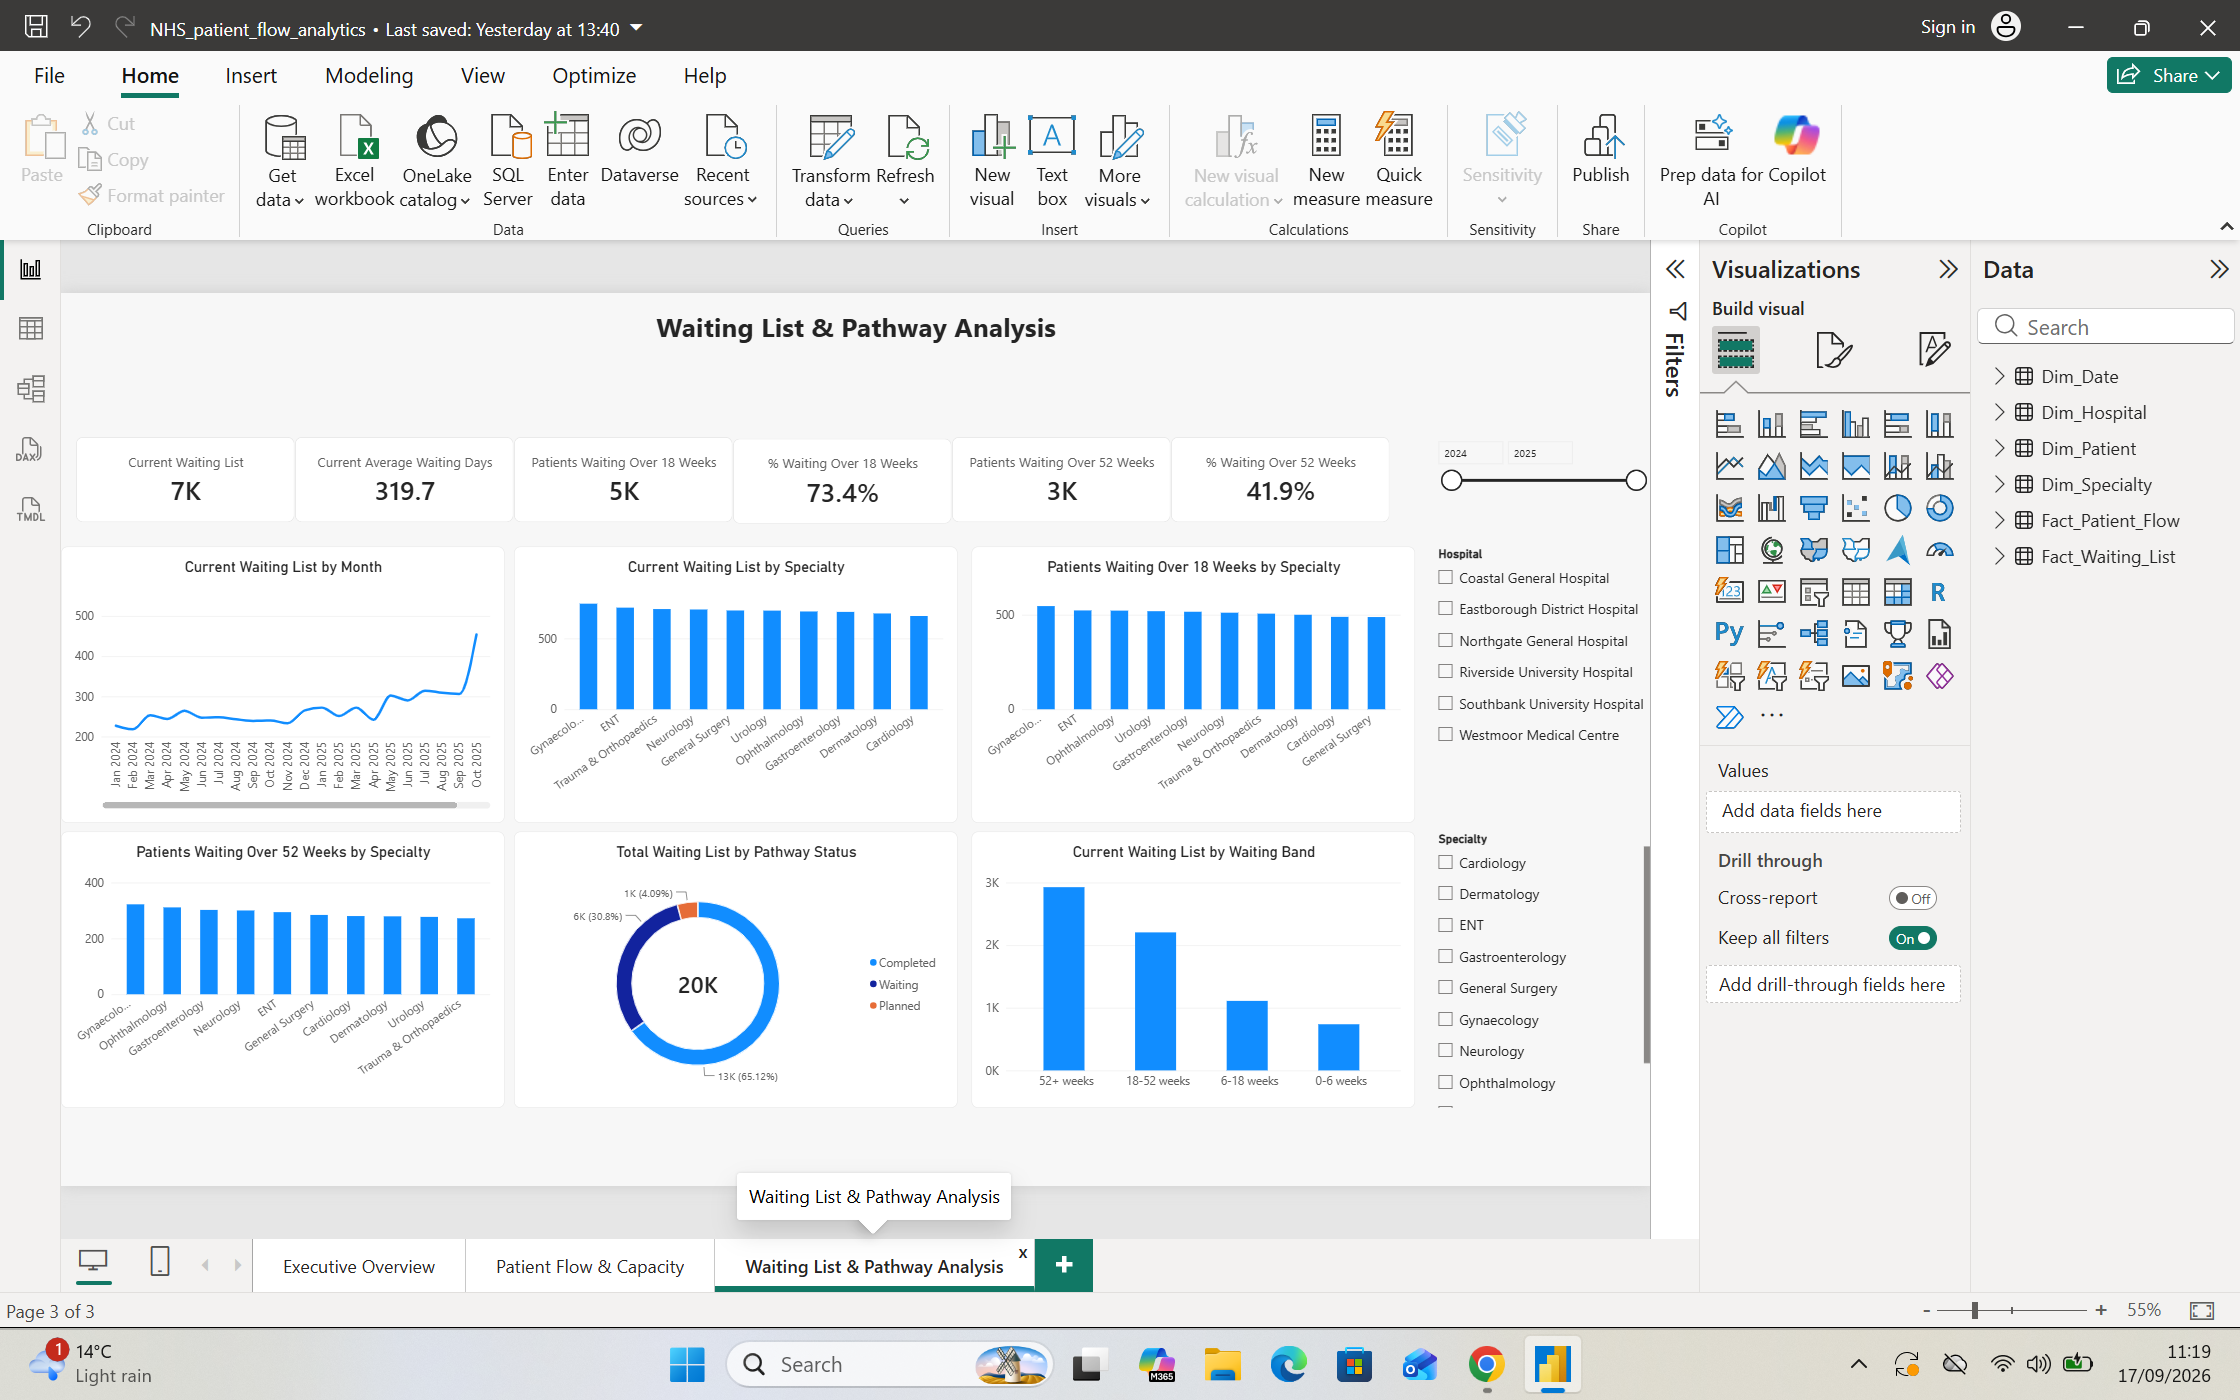

This screenshot's page, from the dashboard's own definition file:
{"tool":"powerbi","page":{"name":"Waiting List & Pathway Analysis","canvas":[1920,1080],"ordinal":2},"visuals":[{"type":"textbox","box":[10.9,0,1908.5,83.4],"z":0},{"type":"cardVisual","fields":{"Data":["Fact_Waiting_List.Current Waiting List"]},"box":[18.1,174,264.6,103.3],"z":1},{"type":"cardVisual","fields":{"Data":["Fact_Waiting_List.Current Average Waiting Days"]},"box":[282.7,174,264.6,103.3],"z":2},{"type":"cardVisual","fields":{"Data":["Fact_Waiting_List.Patients Waiting Over 18 Weeks"]},"box":[547.4,174,264.6,103.3],"z":3},{"type":"cardVisual","fields":{"Data":["Fact_Waiting_List.% Waiting Over 18 Weeks"]},"box":[812,175.8,264.6,103.3],"z":4},{"type":"cardVisual","fields":{"Data":["Fact_Waiting_List.Patients Waiting Over 52 Weeks"]},"box":[1076.6,174,264.6,103.3],"z":5},{"type":"cardVisual","fields":{"Data":["Fact_Waiting_List.% Waiting Over 52 Weeks"]},"box":[1341.2,174,264.6,103.3],"z":6},{"type":"lineChart","title":"Current Waiting List by Month","fields":{"Category":["Dim_Date.Month_Year"],"Y":["Fact_Waiting_List.Current Waiting List"]},"box":[0,306,536,334],"z":7},{"type":"clusteredColumnChart","title":"Current Waiting List by Specialty","fields":{"Category":["Dim_Specialty.Specialty_Name"],"Y":["Fact_Waiting_List.Current Waiting List"]},"box":[548,306,536,334],"z":8},{"type":"clusteredColumnChart","title":"Patients Waiting Over 18 Weeks by Specialty","fields":{"Category":["Dim_Specialty.Specialty_Name"],"Y":["Fact_Waiting_List.Patients Waiting Over 18 Weeks"]},"box":[1100,306,536,334],"z":9},{"type":"clusteredColumnChart","title":"Patients Waiting Over 52 Weeks by Specialty","fields":{"Category":["Dim_Specialty.Specialty_Name"],"Y":["Fact_Waiting_List.Patients Waiting Over 52 Weeks"]},"box":[0,650,536,334],"z":10},{"type":"donutChart","title":"Total Waiting List by Pathway Status","fields":{"Category":["Fact_Waiting_List.Pathway_Status"],"Y":["Fact_Waiting_List.Total Waiting List"]},"box":[548,650,536,334],"z":11},{"type":"clusteredColumnChart","title":"Current Waiting List by Waiting Band","fields":{"Category":["Fact_Waiting_List.Waiting_Band"],"Y":["Fact_Waiting_List.Current Waiting List"]},"box":[1100,650,536,334],"z":12},{"type":"slicer","fields":{"Values":["Dim_Date.Year"]},"box":[1656.6,174,262.8,103.3],"z":13},{"type":"slicer","fields":{"Values":["Dim_Hospital.Hospital_Name"]},"box":[1656,306,264,334],"z":14},{"type":"slicer","fields":{"Values":["Dim_Specialty.Specialty_Name"]},"box":[1656,650,264,334],"z":15}]}

Visuals, with their boxes on the page's 1920x1080 design canvas (x1, y1, x2, y2). These are canvas units, not pixel positions in the 2240x1400 screenshot, which may show the page scaled, cropped or inside an application window:
textbox: select_region(11, 0, 1919, 83)
cardVisual - Fact_Waiting_List.Current Waiting List: select_region(18, 174, 283, 277)
cardVisual - Fact_Waiting_List.Current Average Waiting Days: select_region(283, 174, 547, 277)
cardVisual - Fact_Waiting_List.Patients Waiting Over 18 Weeks: select_region(547, 174, 812, 277)
cardVisual - Fact_Waiting_List.% Waiting Over 18 Weeks: select_region(812, 176, 1077, 279)
cardVisual - Fact_Waiting_List.Patients Waiting Over 52 Weeks: select_region(1077, 174, 1341, 277)
cardVisual - Fact_Waiting_List.% Waiting Over 52 Weeks: select_region(1341, 174, 1606, 277)
"Current Waiting List by Month" lineChart: select_region(0, 306, 536, 640)
"Current Waiting List by Specialty" clusteredColumnChart: select_region(548, 306, 1084, 640)
"Patients Waiting Over 18 Weeks by Specialty" clusteredColumnChart: select_region(1100, 306, 1636, 640)
"Patients Waiting Over 52 Weeks by Specialty" clusteredColumnChart: select_region(0, 650, 536, 984)
"Total Waiting List by Pathway Status" donutChart: select_region(548, 650, 1084, 984)
"Current Waiting List by Waiting Band" clusteredColumnChart: select_region(1100, 650, 1636, 984)
slicer - Dim_Date.Year: select_region(1657, 174, 1919, 277)
slicer - Dim_Hospital.Hospital_Name: select_region(1656, 306, 1920, 640)
slicer - Dim_Specialty.Specialty_Name: select_region(1656, 650, 1920, 984)
